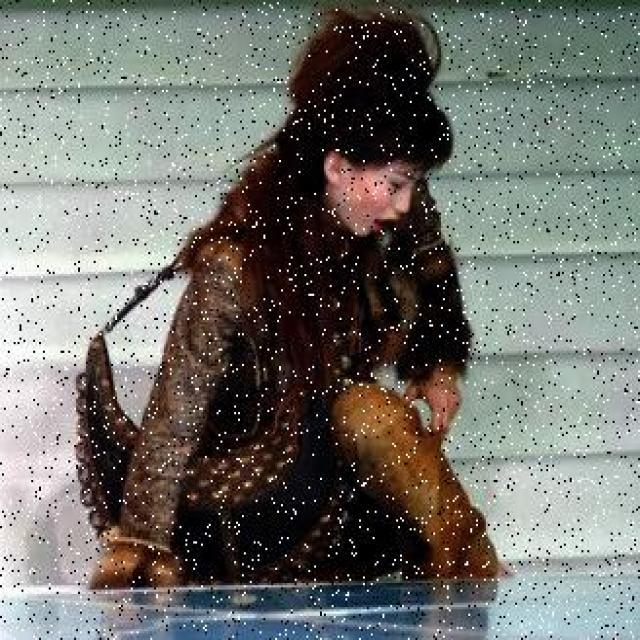fall: (117, 83, 513, 596)
